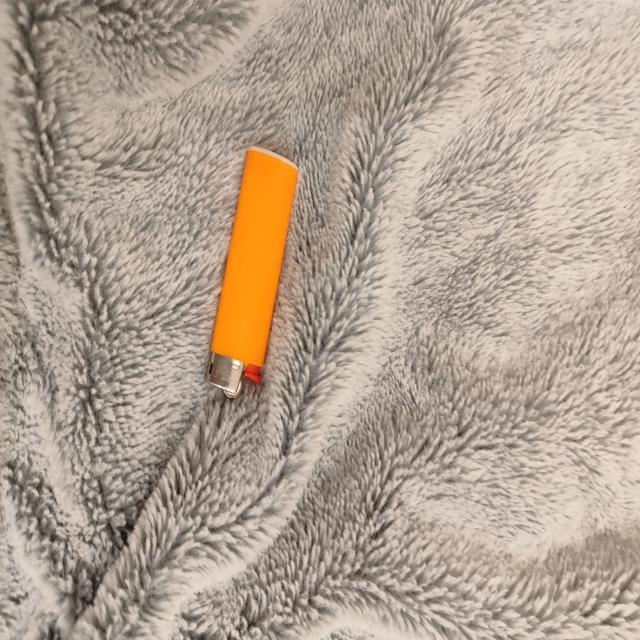lighter: (207, 148, 298, 398)
